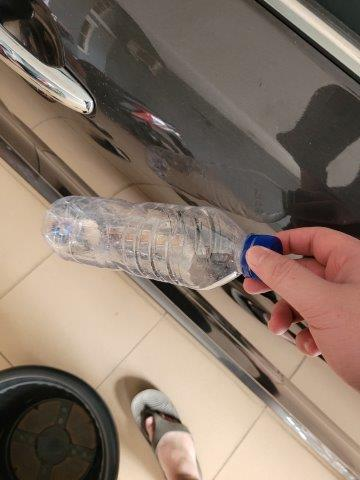botolplastik: (44, 198, 282, 289)
